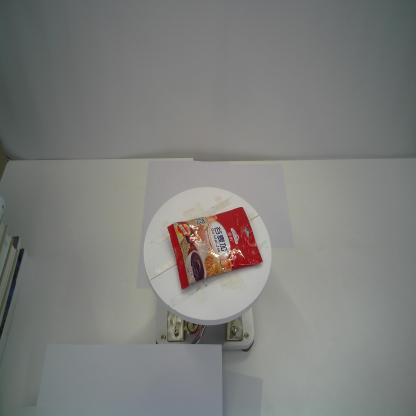Instant Drink: (167, 206, 263, 292)
